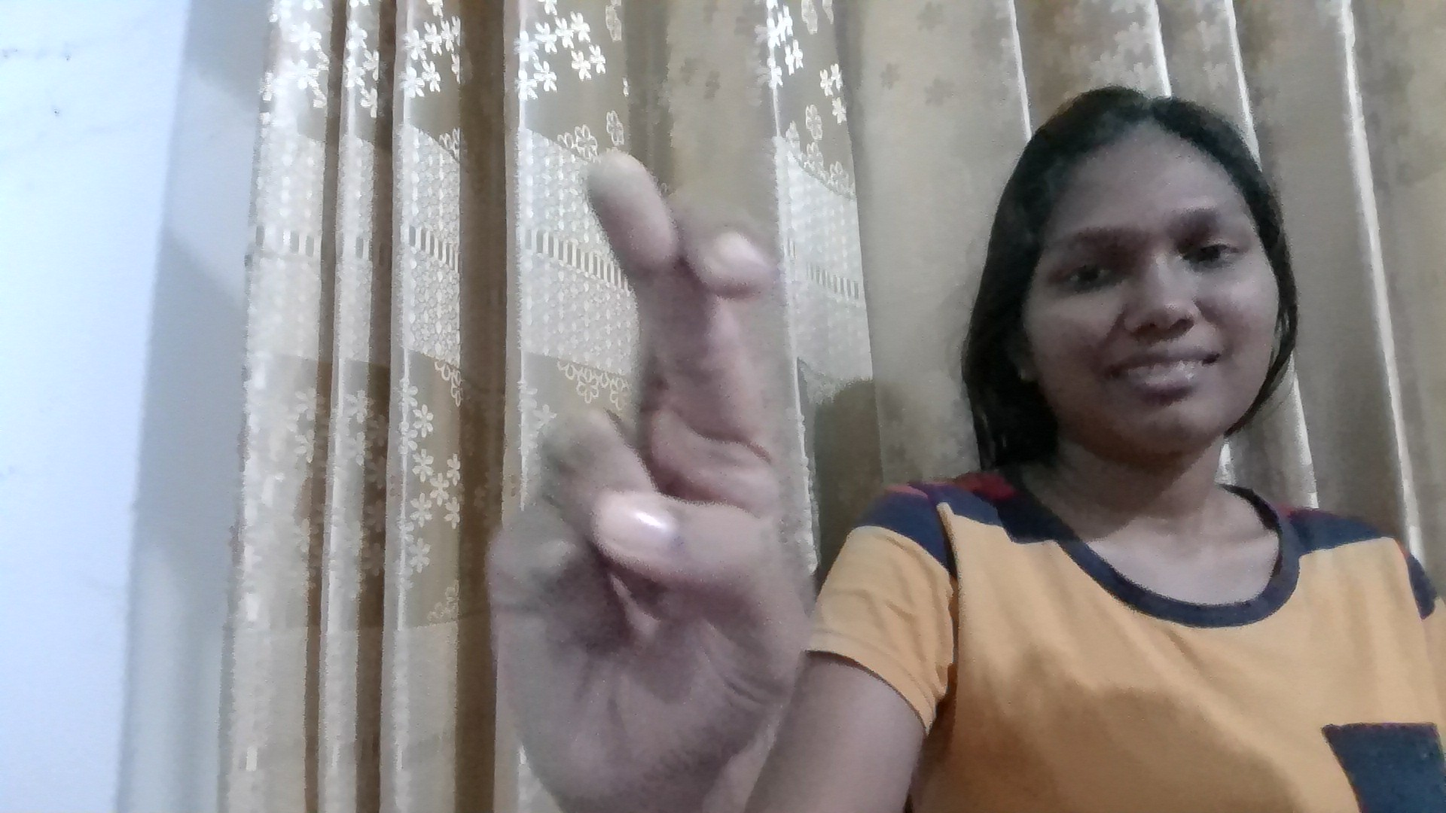Good_Luck: (444, 87, 865, 813)
